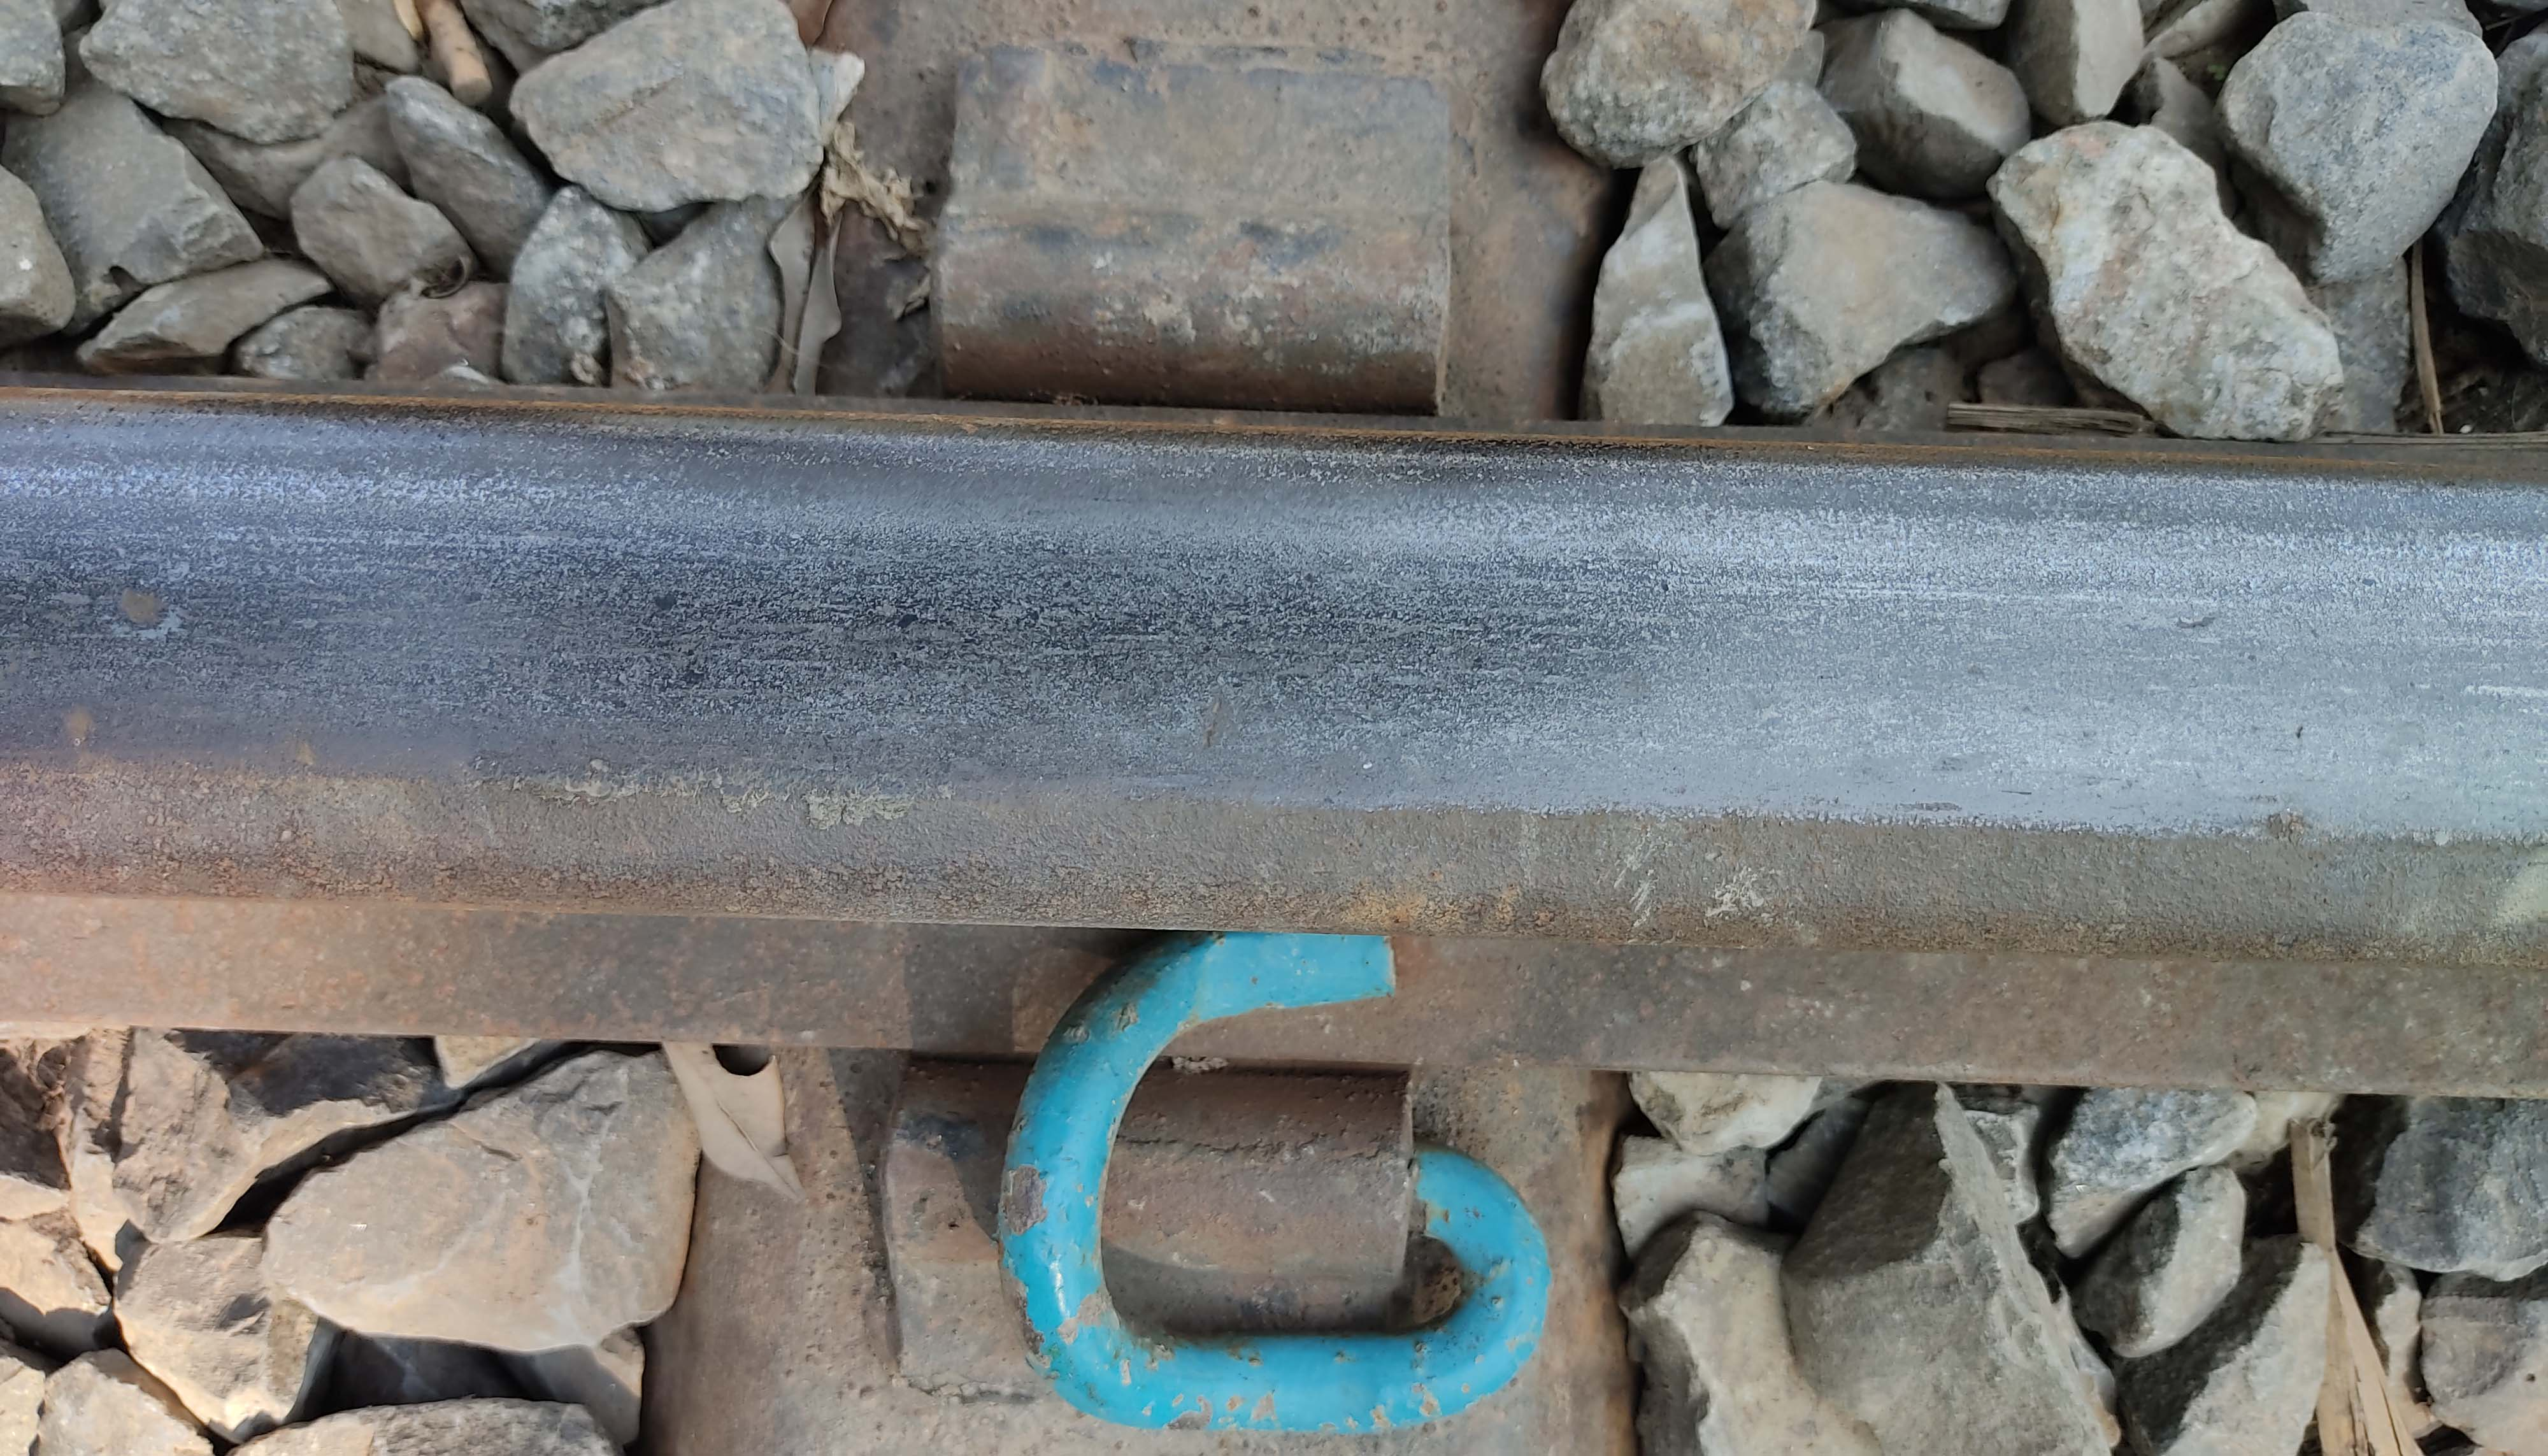error1: (924, 880, 1601, 1419), (884, 47, 1498, 420)
